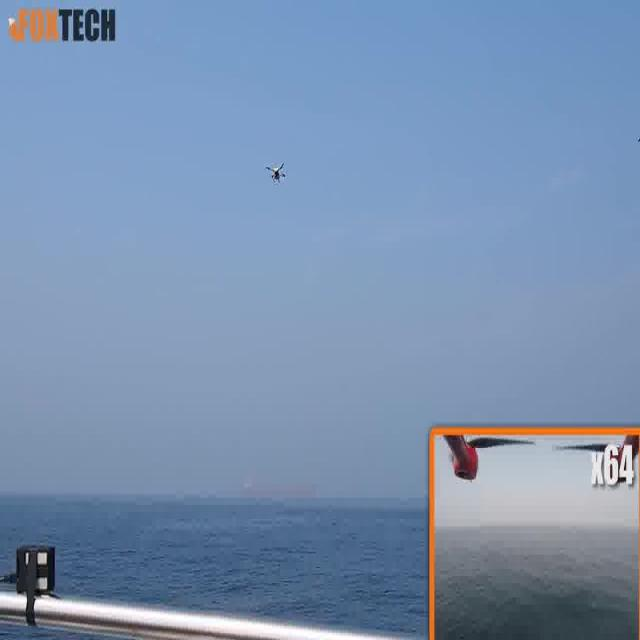drone: (262, 158, 290, 192)
